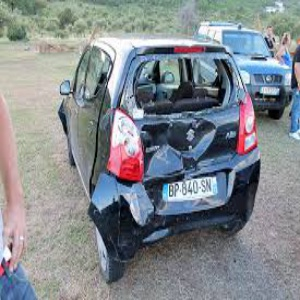bumper: (86, 174, 167, 263)
